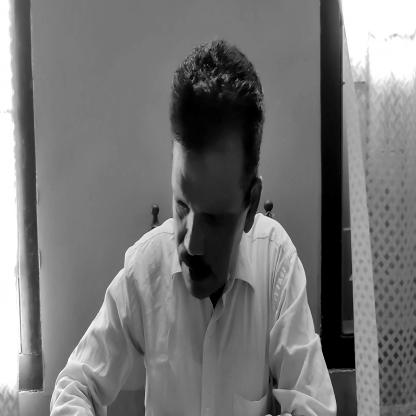Distracted: (170, 49, 260, 307)
